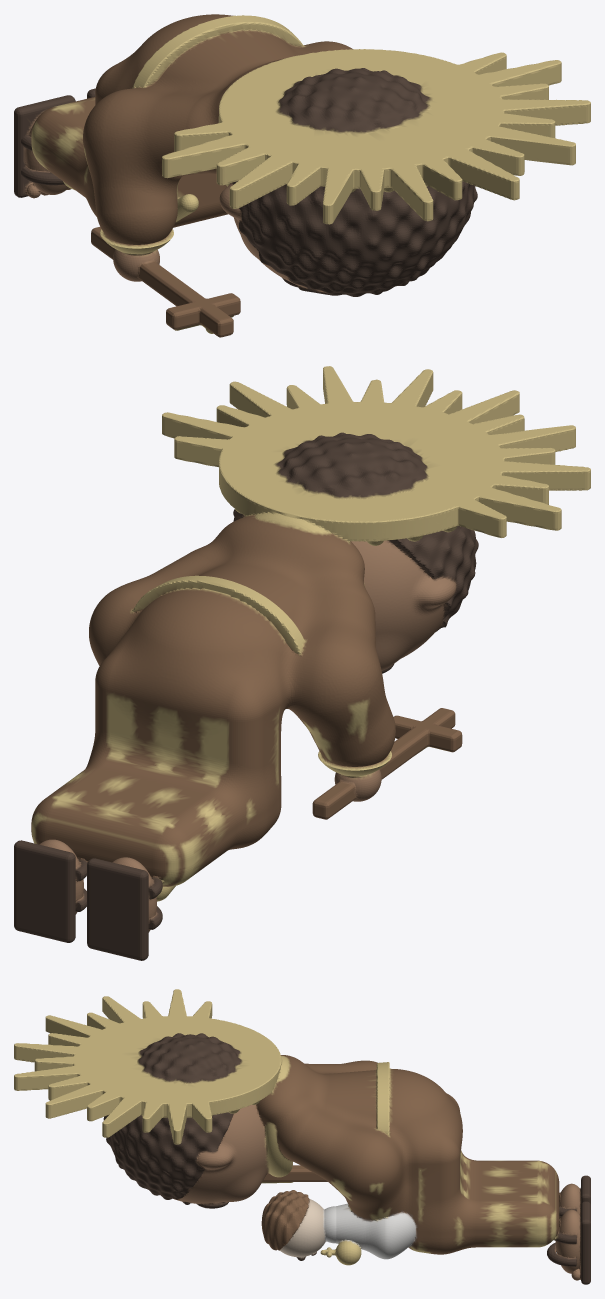
File: santinho_redondo.glb
3 renders of one model, top to bottom at view 1: azimuth 30°, elevation 25°; view 2: azimuth 150°, elevation 25°; view 3: azimuth 270°, elevation 25°, orthographic. The views are drawn at different scales.
Visible parts, largest first — view 1: geometry_0; view 2: geometry_0; view 3: geometry_0.
Part boxes in pixels (x1=…): geometry_0: x1=14, y1=14, x2=590, y2=337; geometry_0: x1=14, y1=366, x2=590, y2=960; geometry_0: x1=14, y1=989, x2=590, y2=1284.
Size of the model in its own units: 67.59 by 48.92 by 116.
